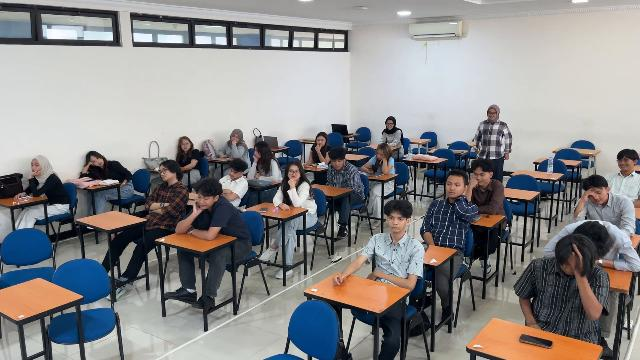bosan: (446, 177, 462, 198), (586, 188, 605, 204), (388, 214, 404, 232), (197, 192, 212, 208), (473, 170, 488, 185), (90, 155, 104, 166), (160, 165, 170, 180), (331, 158, 343, 169), (289, 167, 299, 180), (180, 139, 191, 150), (31, 160, 40, 173), (316, 137, 325, 146), (230, 169, 238, 179), (376, 150, 383, 160), (232, 134, 240, 142)
